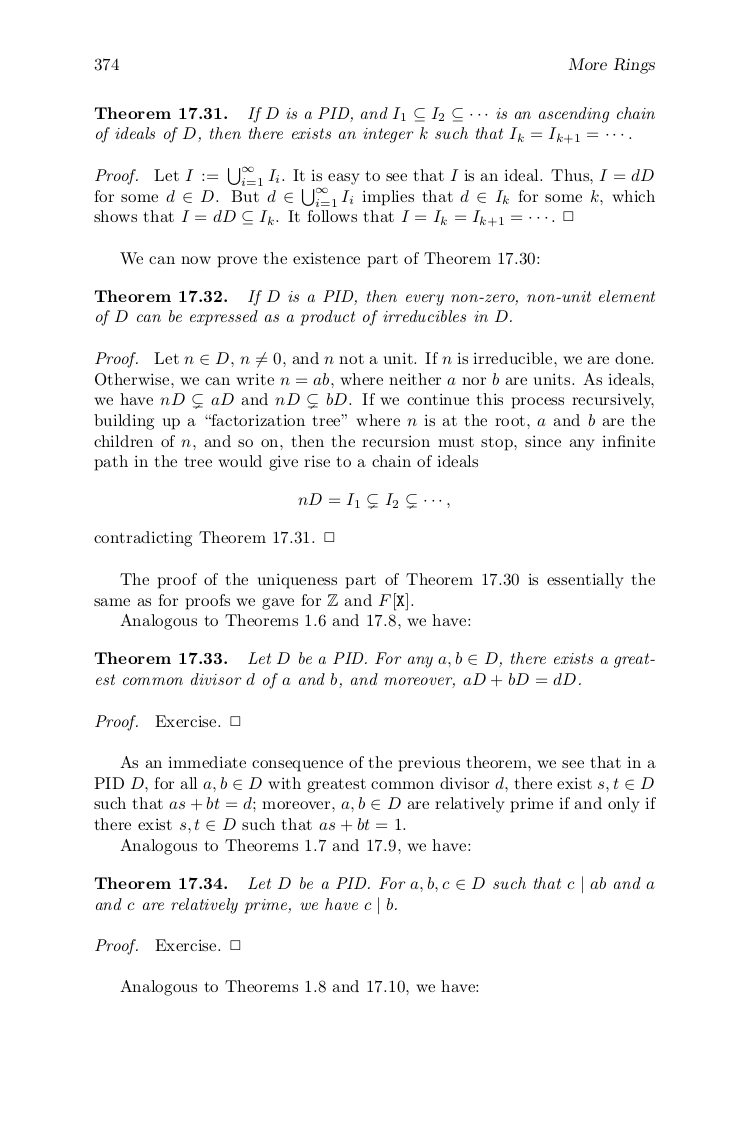formula: (298, 492, 449, 509)
